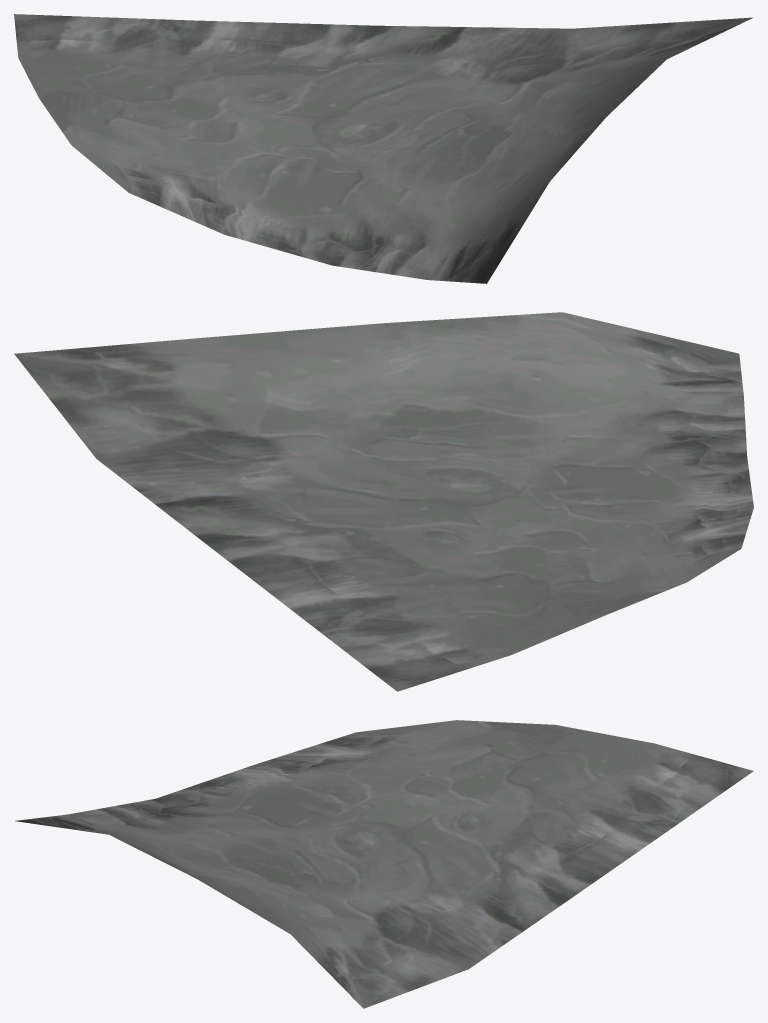
Rendered from SWORDLIGHT20_PS-AREA03_135.fbx.
3 views of the same model, one above another, from view 1: azimuth 30°, elevation 25°; view 2: azimuth 150°, elevation 25°; view 3: azimuth 270°, elevation 25° (orthographic). The views are drawn at different scales.
Visible parts, largest first — view 1: SWORDLIGHT20_PS-AREA03_135; view 2: SWORDLIGHT20_PS-AREA03_135; view 3: SWORDLIGHT20_PS-AREA03_135.
Boxes of the visible parts, x1,y1,x2,y2 form: SWORDLIGHT20_PS-AREA03_135: [14, 14, 752, 283]; SWORDLIGHT20_PS-AREA03_135: [14, 312, 753, 691]; SWORDLIGHT20_PS-AREA03_135: [15, 720, 753, 1008].
Bounding box in the file's own units: 109816 × 9950 × 115575.
Materials: 1 (1 with a texture image).
